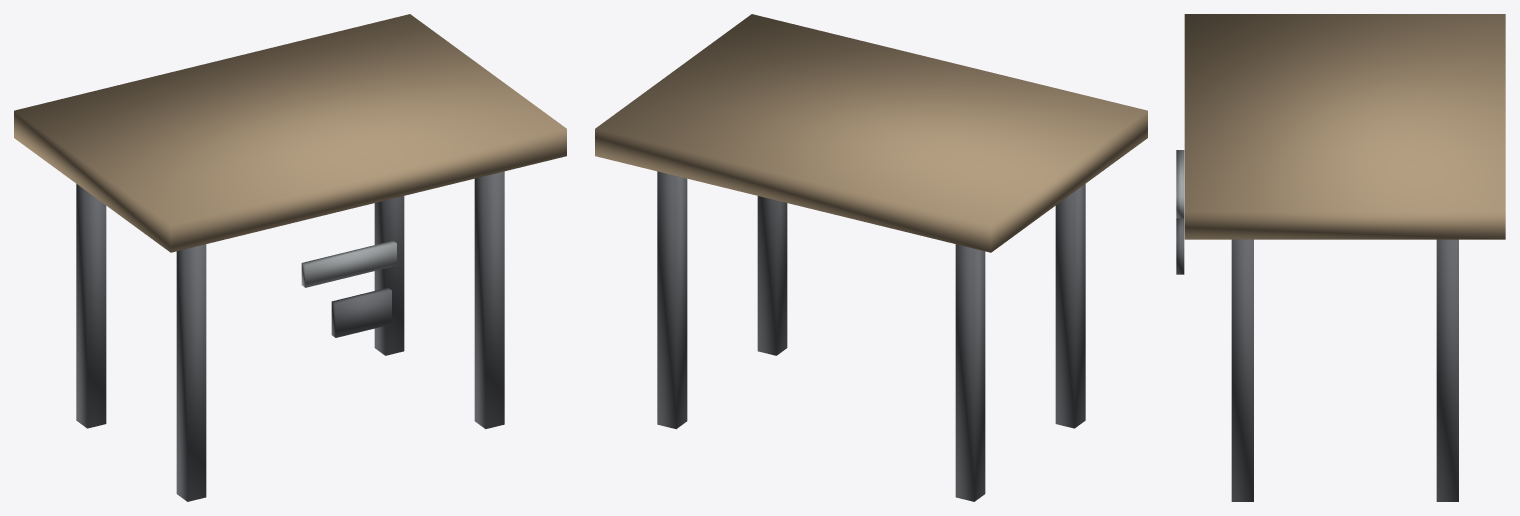
File: diner_four_top__weathered.glb
The picture shows the model from 3 angles, left to right: view 1: azimuth 30°, elevation 25°; view 2: azimuth 150°, elevation 25°; view 3: azimuth 270°, elevation 25°; orthographic projection. The views are drawn at different scales.
Parts seen in each view (by area): view 1: world; view 2: world; view 3: world.
Part boxes in pixels (x1,y1,x2,y2): world: (14,14,566,501); world: (595,14,1147,501); world: (1176,14,1505,501).
Bounding box in the file's own units: 1.05 × 0.7673 × 0.7391.
